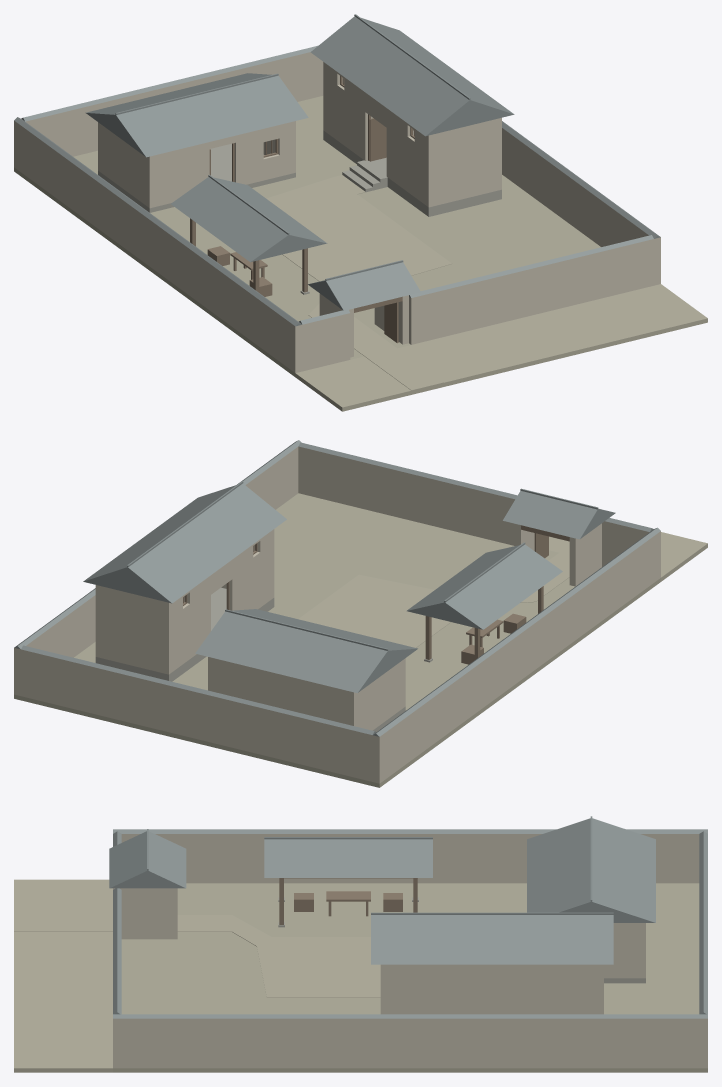
The model's file is R01-B-LOD1-prototype.glb.
3 views of the same model, one above another, from view 1: azimuth 30°, elevation 25°; view 2: azimuth 150°, elevation 25°; view 3: azimuth 270°, elevation 25° (orthographic). The views are drawn at different scales.
Parts seen in each view (by area): view 1: architecture_C_whitebox_earth_wall, architecture_C_roof_rhythm_not_glaze_copy, site_lot, site_neutral_lane, designed_loading_yard, architecture_C_floor_plinth, architecture_C_plain_timber; view 2: architecture_C_whitebox_earth_wall, architecture_C_roof_rhythm_not_glaze_copy, site_lot, designed_loading_yard, architecture_C_plain_timber, architecture_C_floor_plinth, site_neutral_lane; view 3: architecture_C_whitebox_earth_wall, architecture_C_roof_rhythm_not_glaze_copy, site_lot, site_neutral_lane, designed_loading_yard, architecture_C_plain_timber.
Boxes of the visible parts, x1,y1,x2,y2 form: architecture_C_whitebox_earth_wall: (14,52,660,372); architecture_C_roof_rhythm_not_glaze_copy: (14,14,660,326); site_lot: (14,96,600,376); site_neutral_lane: (295,284,707,411); designed_loading_yard: (266,175,451,390); architecture_C_floor_plinth: (98,130,501,294); architecture_C_plain_timber: (190,76,414,343); architecture_C_whitebox_earth_wall: (14,446,660,783); architecture_C_roof_rhythm_not_glaze_copy: (14,440,660,736); site_lot: (14,493,660,787); designed_loading_yard: (298,545,569,647); architecture_C_plain_timber: (183,525,569,664); architecture_C_floor_plinth: (95,587,432,731); site_neutral_lane: (549,532,707,581); architecture_C_whitebox_earth_wall: (113,834,707,1068); architecture_C_roof_rhythm_not_glaze_copy: (109,816,707,1018); site_lot: (113,883,707,1072); site_neutral_lane: (14,879,112,1072); designed_loading_yard: (14,915,380,997); architecture_C_plain_timber: (279,878,417,924).
Size of the model in its own units: 18 by 5.52 by 28.
